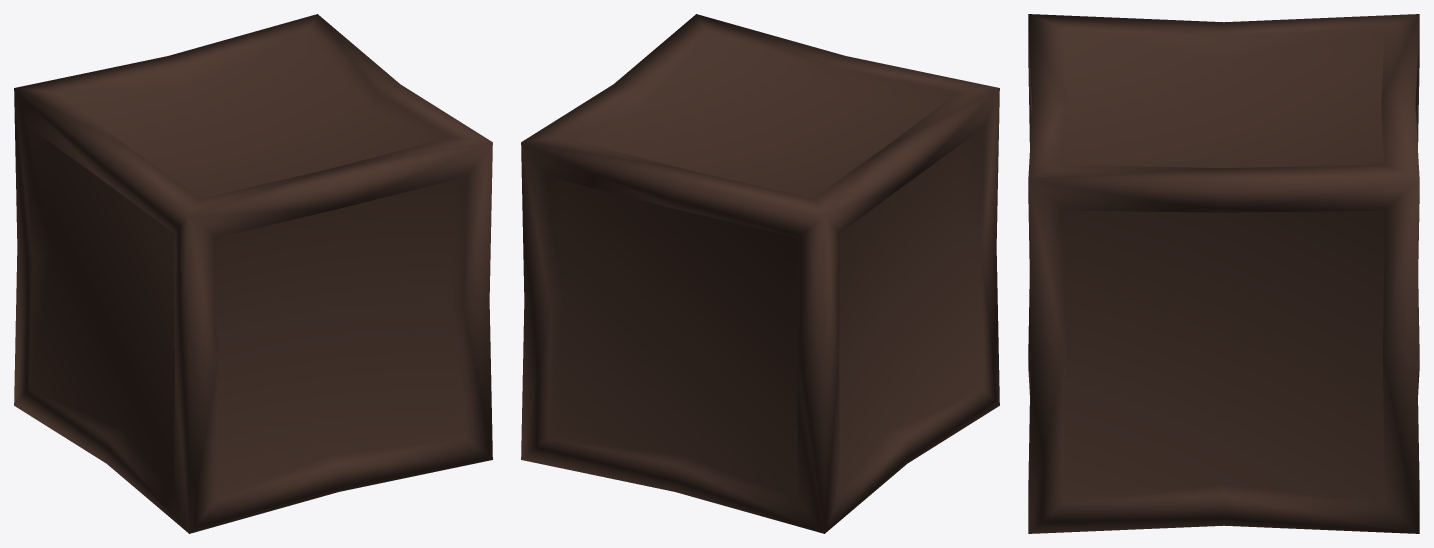
Rendered from box crate.fbx.
3 renders of one model, left to right at view 1: azimuth 30°, elevation 25°; view 2: azimuth 150°, elevation 25°; view 3: azimuth 270°, elevation 25°, orthographic. The views are drawn at different scales.
Visible parts, largest first — view 1: pCube1; view 2: pCube1; view 3: pCube1.
Boxes of the visible parts, x1=… form: pCube1: x1=14, y1=14, x2=492, y2=533; pCube1: x1=521, y1=14, x2=999, y2=533; pCube1: x1=1028, y1=14, x2=1419, y2=533.
Size of the model in its own units: 42 by 42 by 42.
